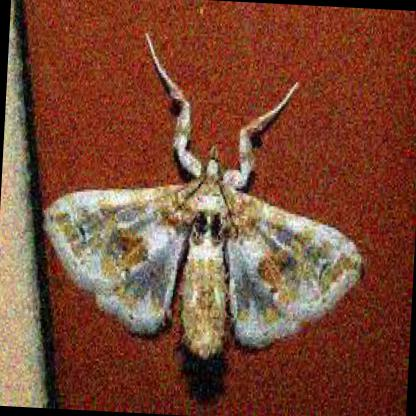leucinodes: (42, 37, 363, 359)
